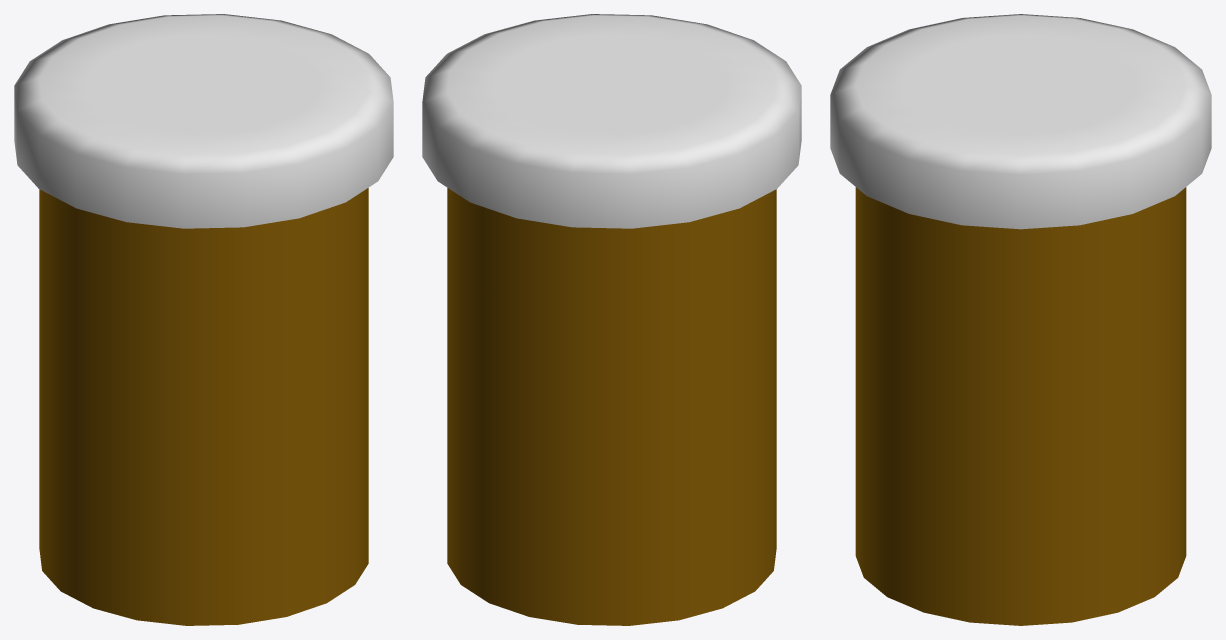
File: PillContainer_FBX.fbx
3 views of the same model, side by side, from view 1: azimuth 30°, elevation 25°; view 2: azimuth 150°, elevation 25°; view 3: azimuth 270°, elevation 25° (orthographic).
Visible parts, largest first — view 1: Pill_Container; view 2: Pill_Container; view 3: Pill_Container.
Boxes of the visible parts, left/top/right/bottom form: Pill_Container: left=14, top=14, right=393, bottom=625; Pill_Container: left=422, top=14, right=801, bottom=625; Pill_Container: left=830, top=14, right=1211, bottom=625.
Size of the model in its own units: 4.6 by 6.27 by 4.6.
